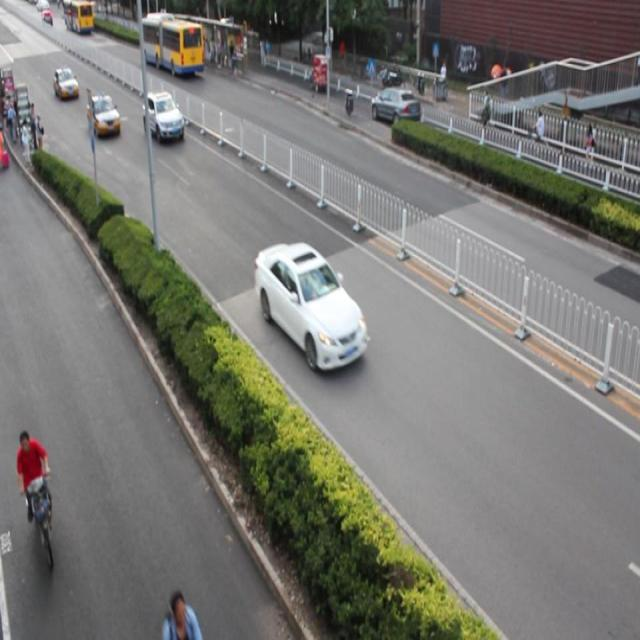car: (254, 243, 367, 376), (140, 89, 184, 144), (369, 85, 420, 126), (87, 94, 119, 138)
van: (140, 10, 203, 80)
